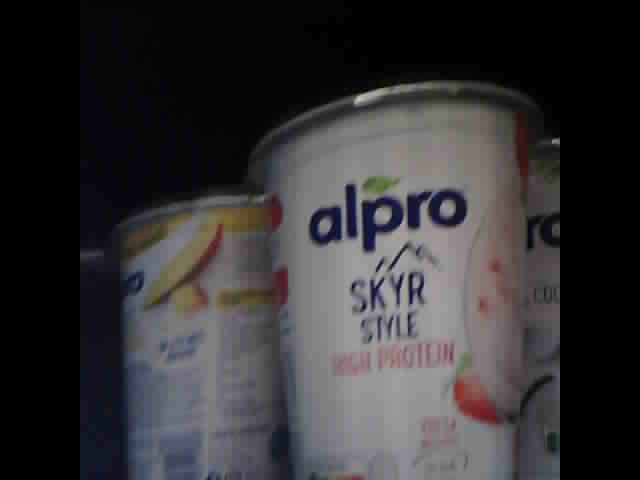alpro: (252, 79, 546, 480), (111, 190, 285, 480), (529, 136, 563, 480)
